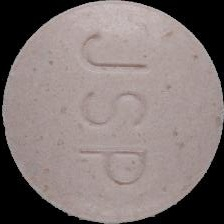60760-340: (0, 0, 224, 224)
